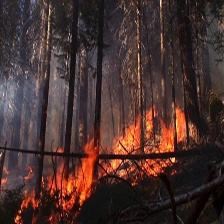fire: (4, 103, 202, 222)
